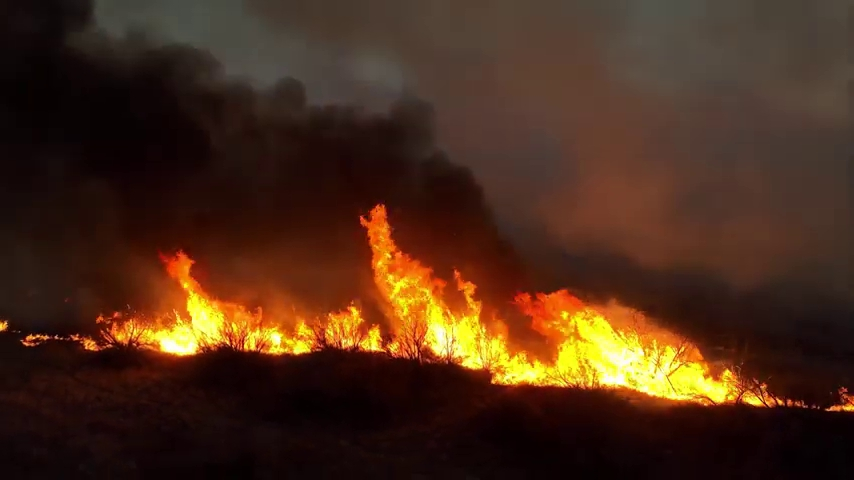forest_fire: (23, 204, 774, 405), (832, 390, 853, 408)
